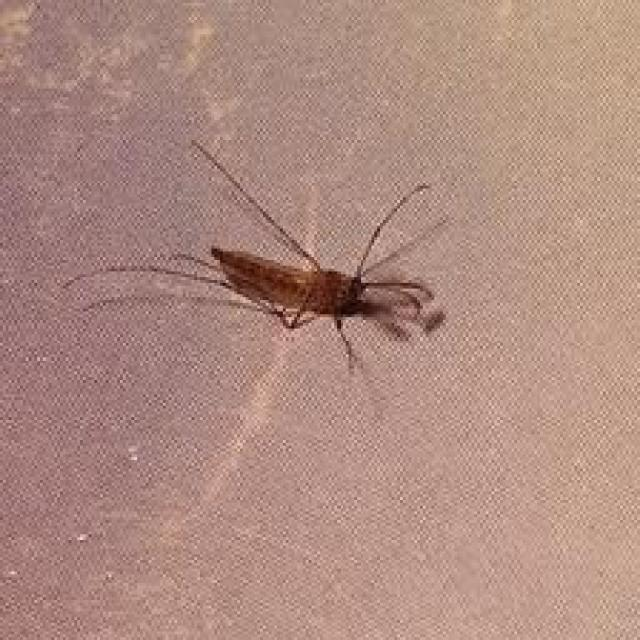Culex: (57, 136, 454, 378)
